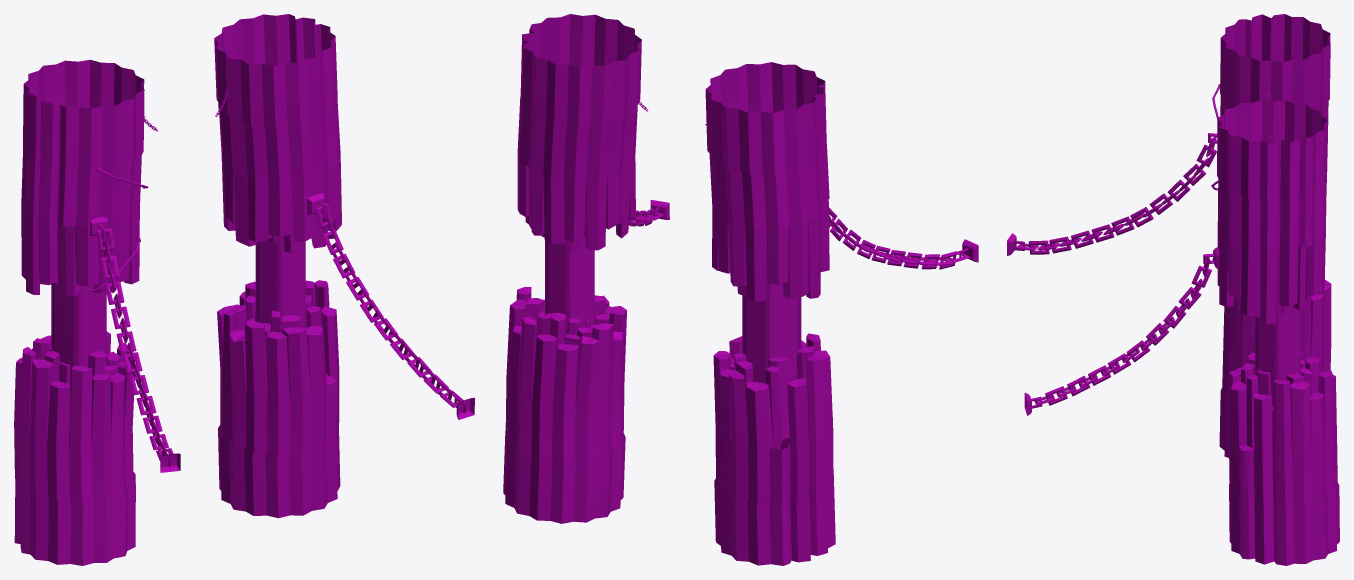
Rendered from entrance mine_highpoly.fbx.
3 views of the same model, side by side, from view 1: azimuth 30°, elevation 25°; view 2: azimuth 150°, elevation 25°; view 3: azimuth 270°, elevation 25° (orthographic). The views are drawn at different scales.
Visible parts, largest first — view 1: polySurface1218, polySurface1221; view 2: polySurface1218, polySurface1221; view 3: polySurface1218, polySurface1221.
Part boxes in pixels (x1=…): polySurface1218: x1=14, y1=14, x2=341, y2=565; polySurface1221: x1=88, y1=89, x2=474, y2=472; polySurface1218: x1=503, y1=14, x2=835, y2=565; polySurface1221: x1=628, y1=89, x2=978, y2=269; polySurface1218: x1=1217, y1=14, x2=1339, y2=565; polySurface1221: x1=1007, y1=84, x2=1271, y2=415.
Size of the model in its own units: 46.64 by 63.88 by 45.84.
